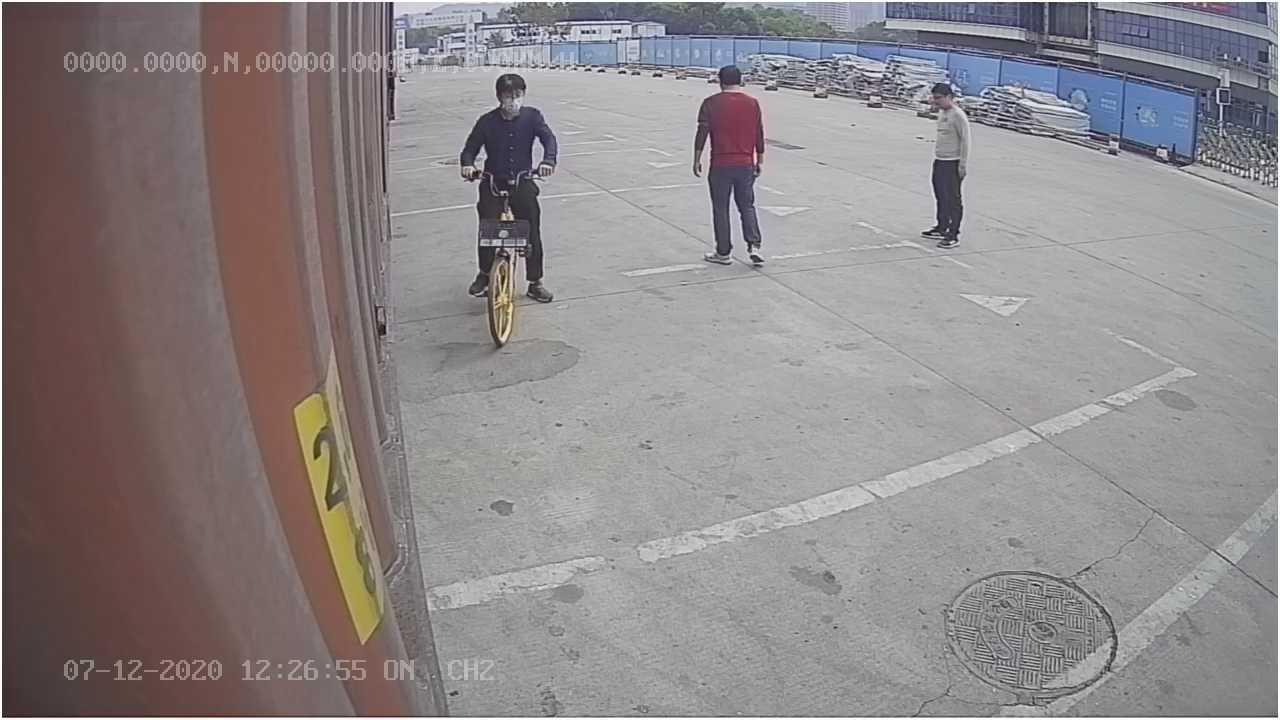person: (685, 62, 770, 267)
